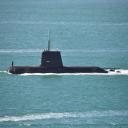submarine: (8, 52, 122, 74)
